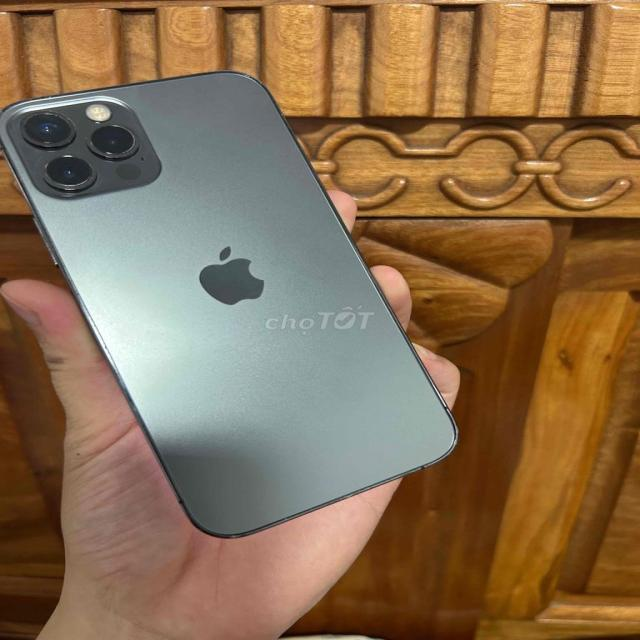gen_12_13: (0, 68, 464, 540)
